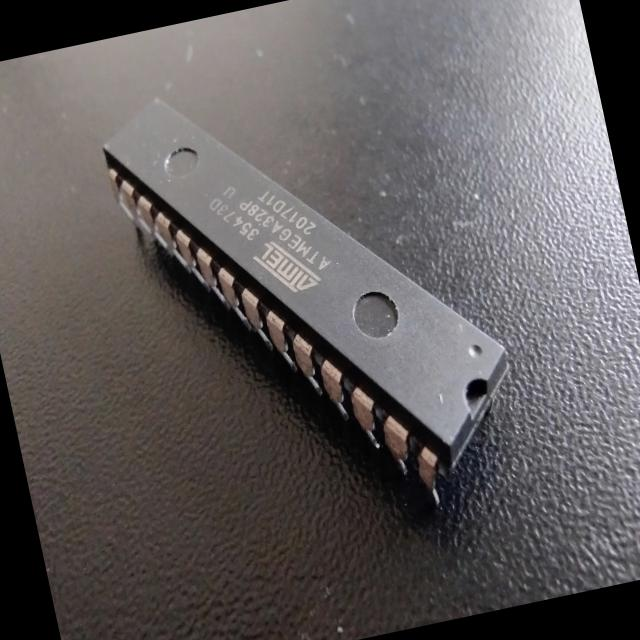atmega: (90, 33, 538, 564)
